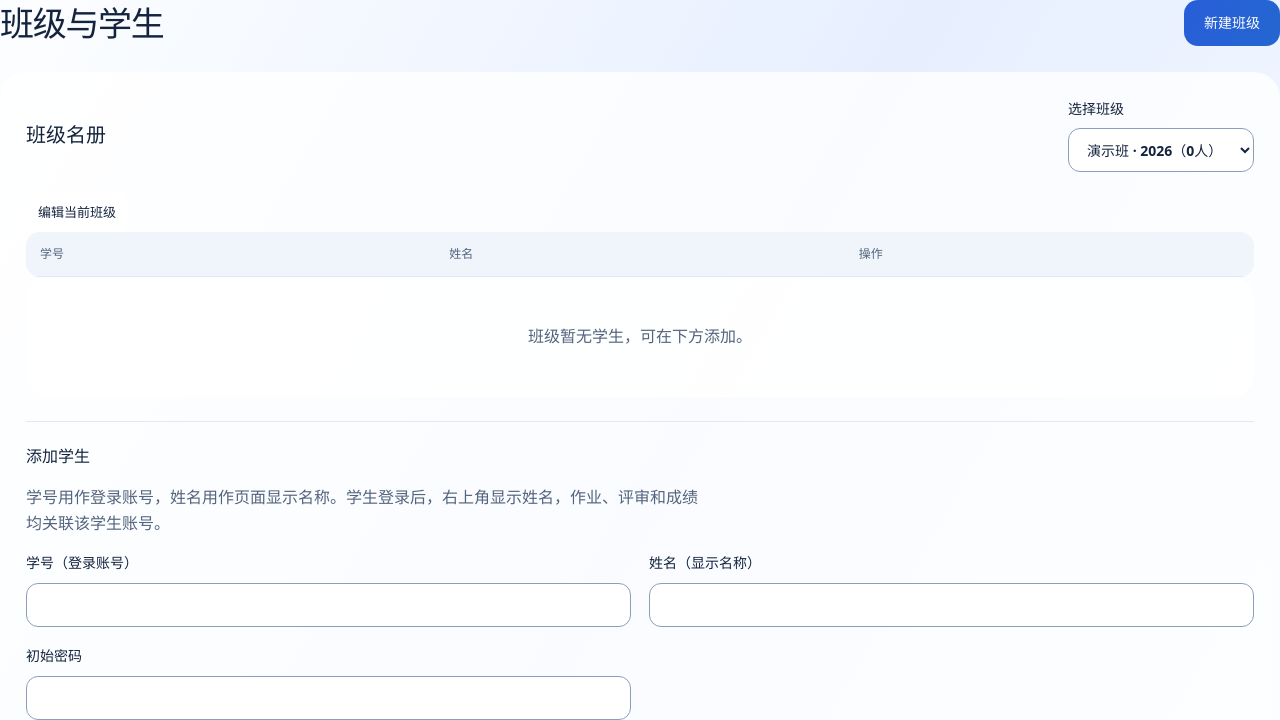
教师分别填写学号、姓名、初始密码，姓名随账号提交并显示在名册
Type " S001 " into the field with id "student-account".
click(328, 605); type(" S001 ")  # box [26,583,631,627]
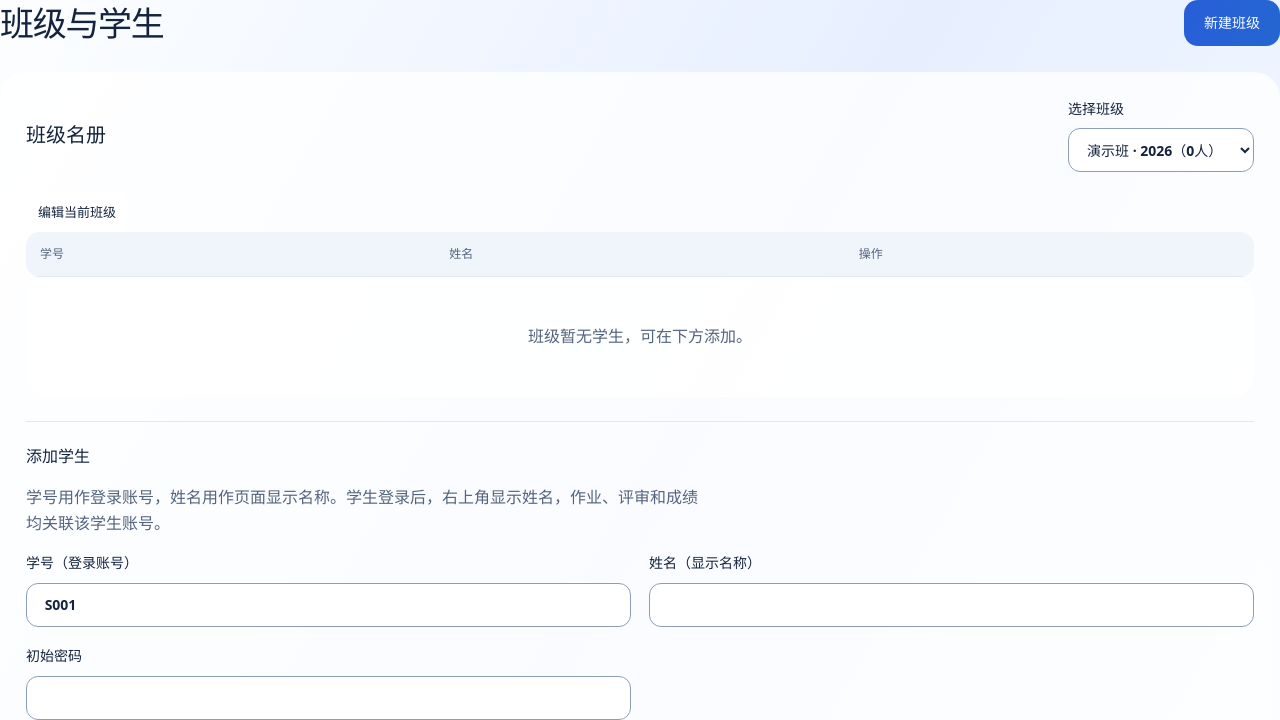
Type " 王小明 " into the field with id "student-display-name".
click(952, 605); type(" 王小明 ")  # box [649,583,1254,627]
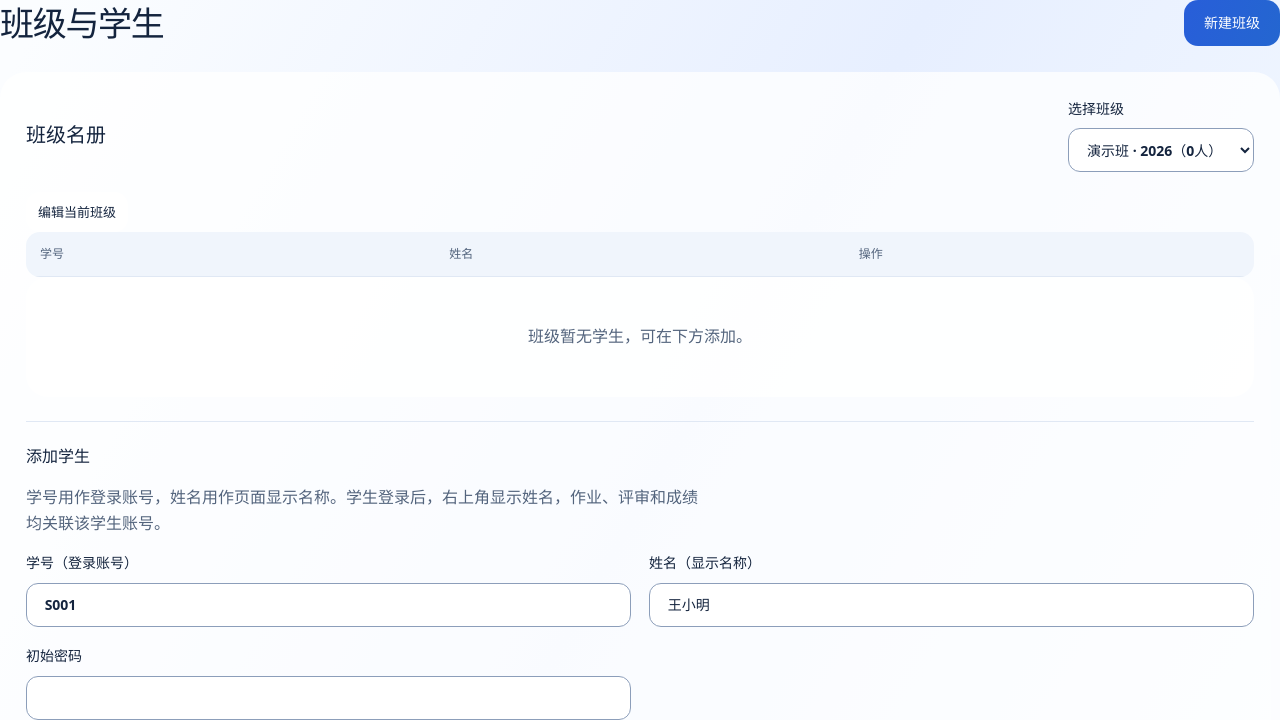
Type "InitialPassword!" into the password field with id "student-initial-password".
click(328, 698); type("InitialPassword!")  # box [26,676,631,719]
(page scrolled)
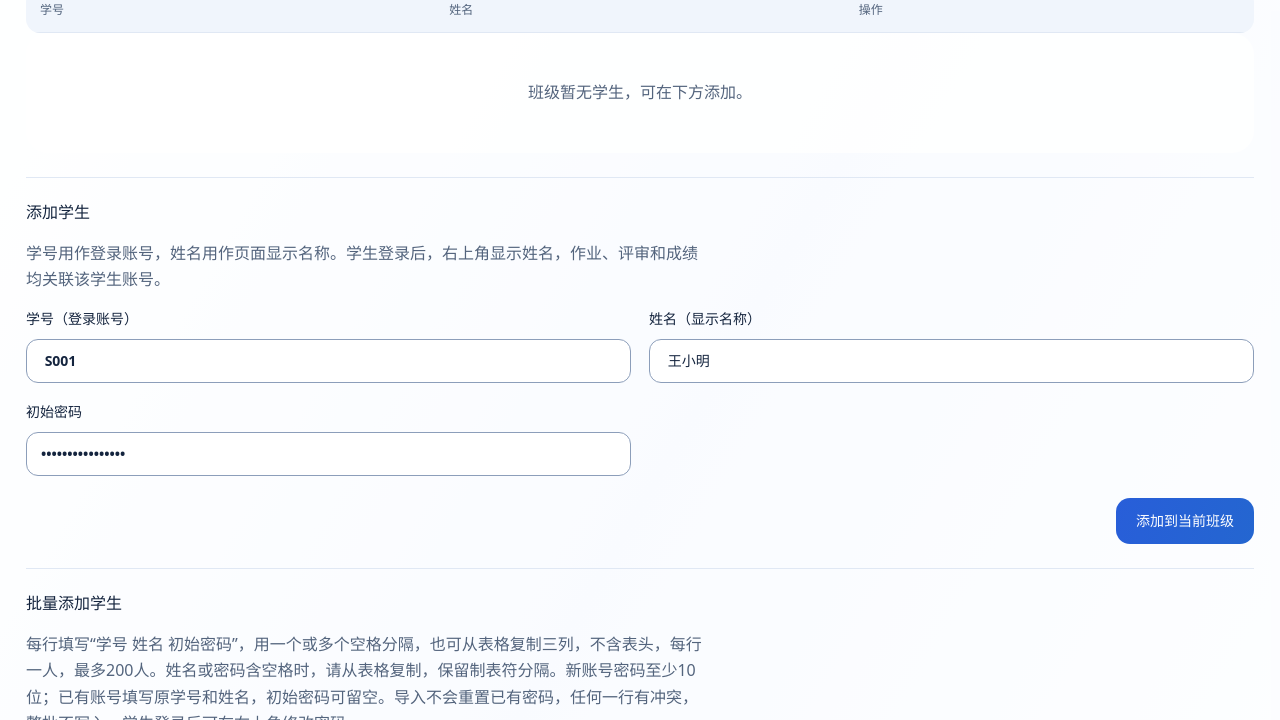
Submit the form named "添加学生", box [26,177,1254,544]
(page scrolled)
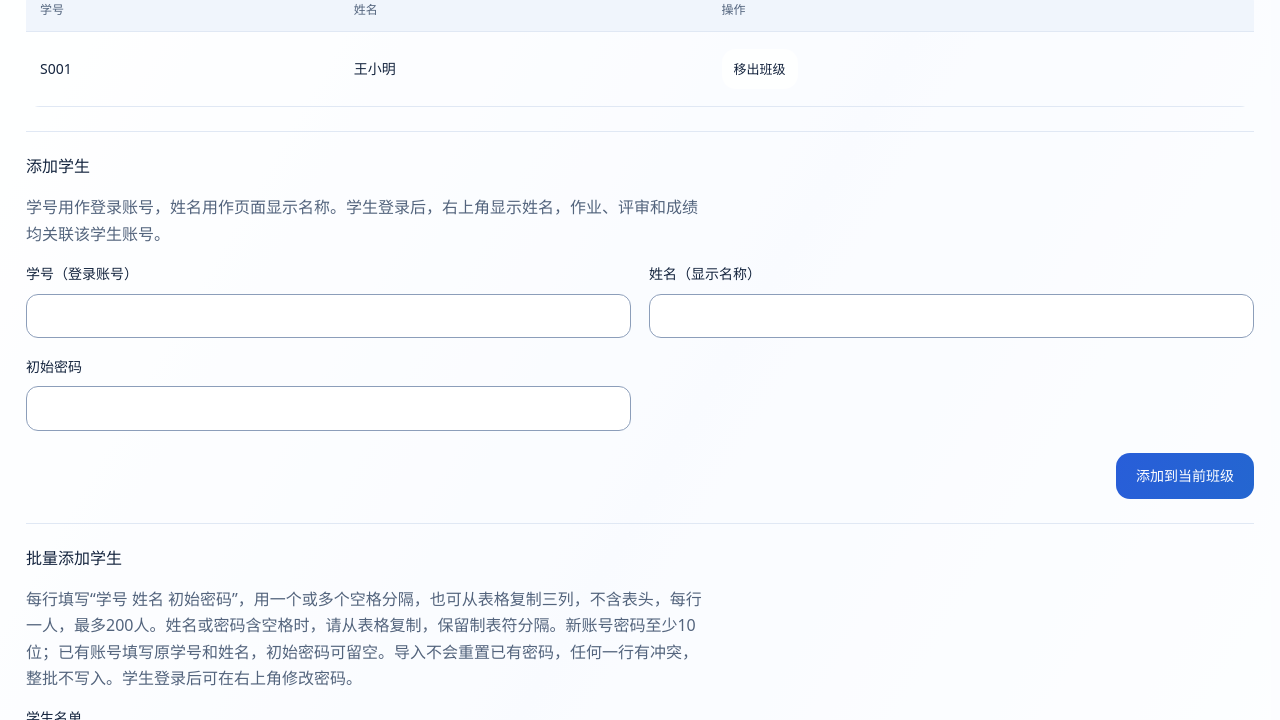
Expected: the table shows "王小明", [354,59,396,78]
Expected: the password field with id "student-initial-password" is empty, [26,386,631,431]
